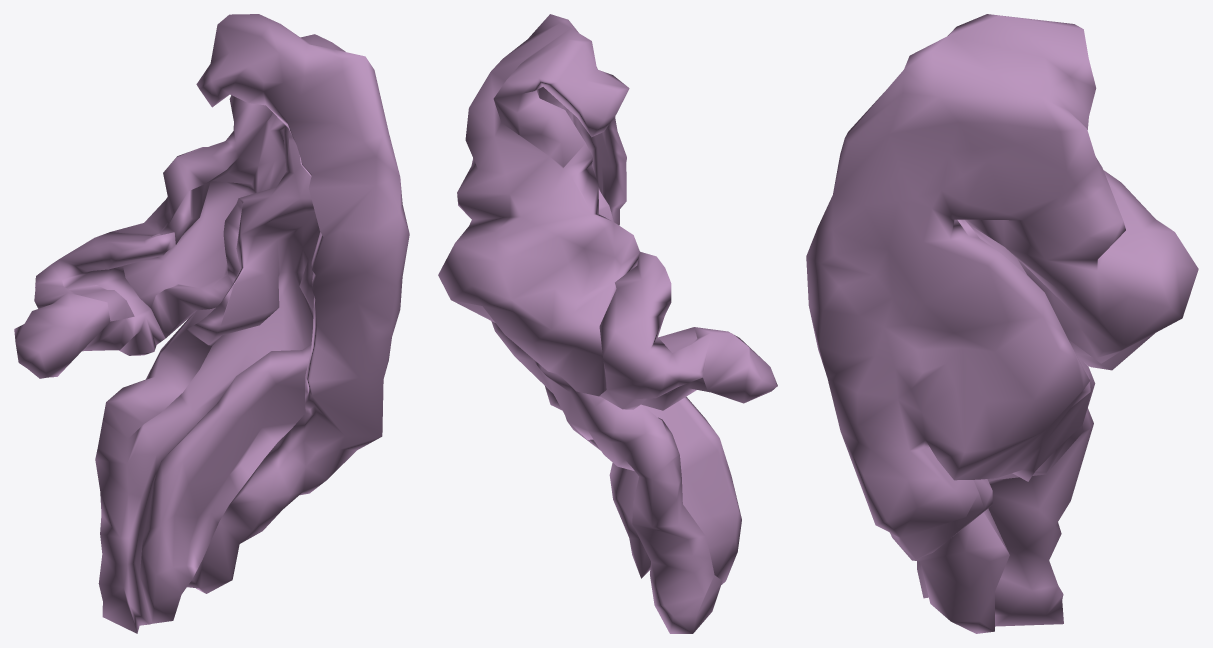
3 views of the same model, side by side, from view 1: azimuth 30°, elevation 25°; view 2: azimuth 150°, elevation 25°; view 3: azimuth 270°, elevation 25° (orthographic). The views are drawn at different scales.
Visible parts, largest first — view 1: 右侧舌回; view 2: 右侧舌回; view 3: 右侧舌回.
Boxes of the visible parts, x1=… form: 右侧舌回: x1=14, y1=14, x2=409, y2=633; 右侧舌回: x1=438, y1=14, x2=777, y2=633; 右侧舌回: x1=806, y1=14, x2=1198, y2=633.
Size of the model in its own units: 0.0498 by 0.0897 by 0.0462.
